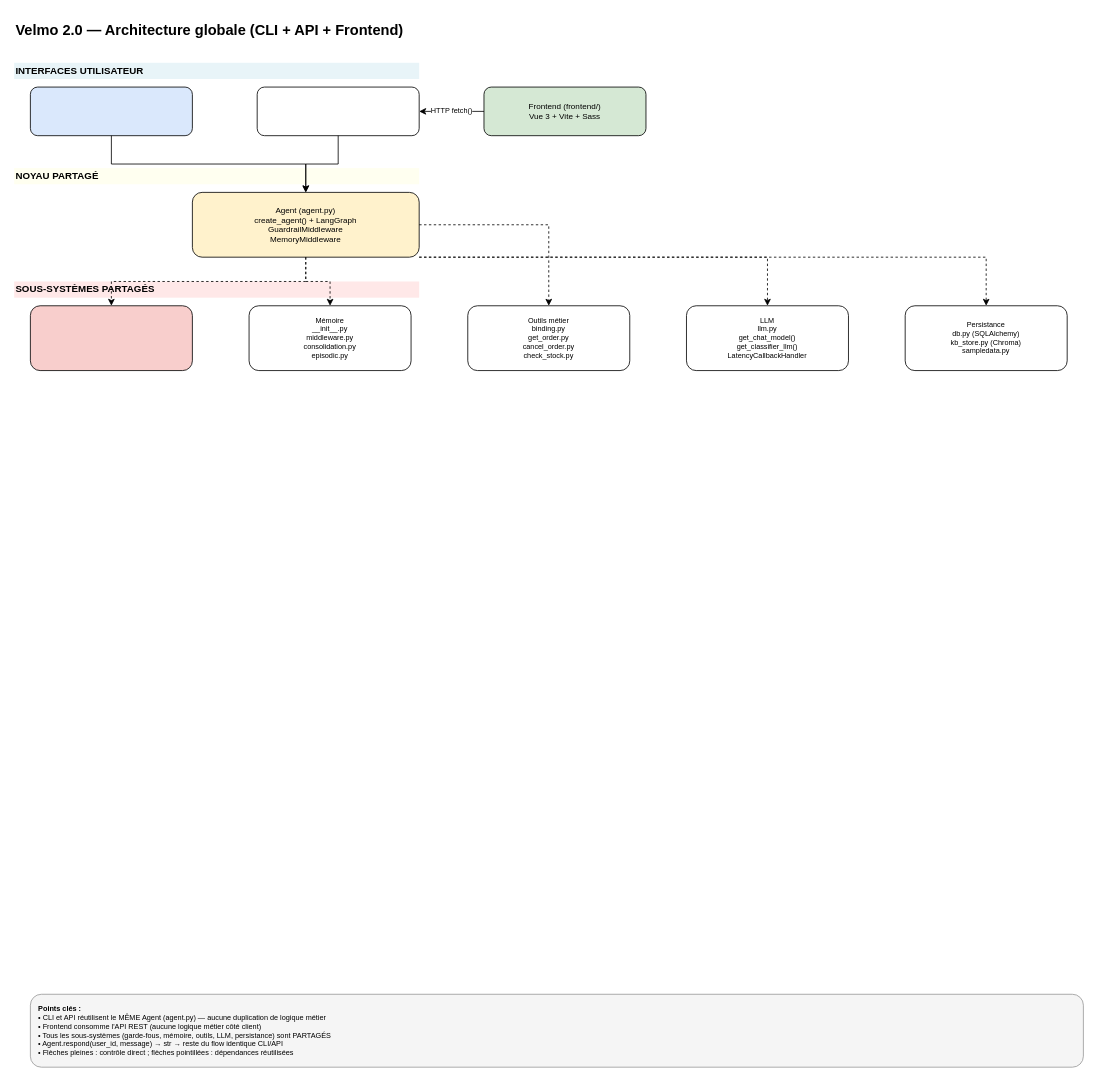
This 1098x1081 diagram has some shape labels left out. Here are the shapes that lost their labels. From the top down, the centre of each, then its label:
At point (111, 111): "CLI (cli.py) REPL conversationnel".
At point (337, 111): "API REST (api.py) FastAPI, uvicorn".
At point (111, 338): "Guardrails moderation.py content_safety.py moderation_llm.py __init__.py".
